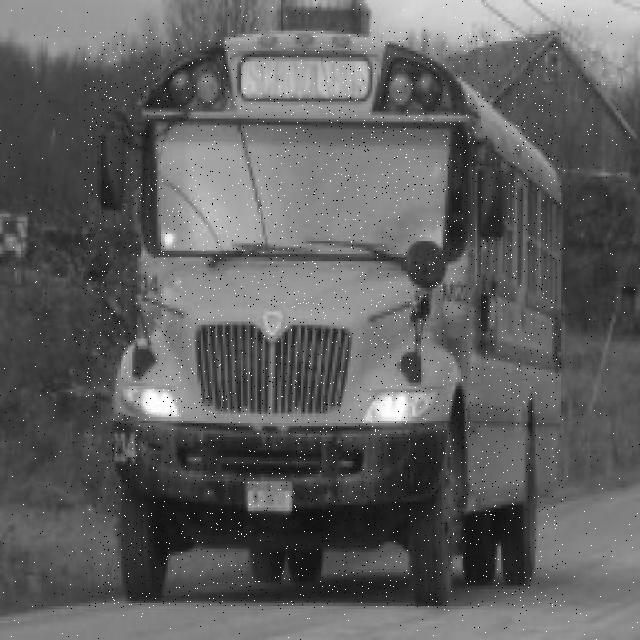Bus: (83, 30, 563, 608)
